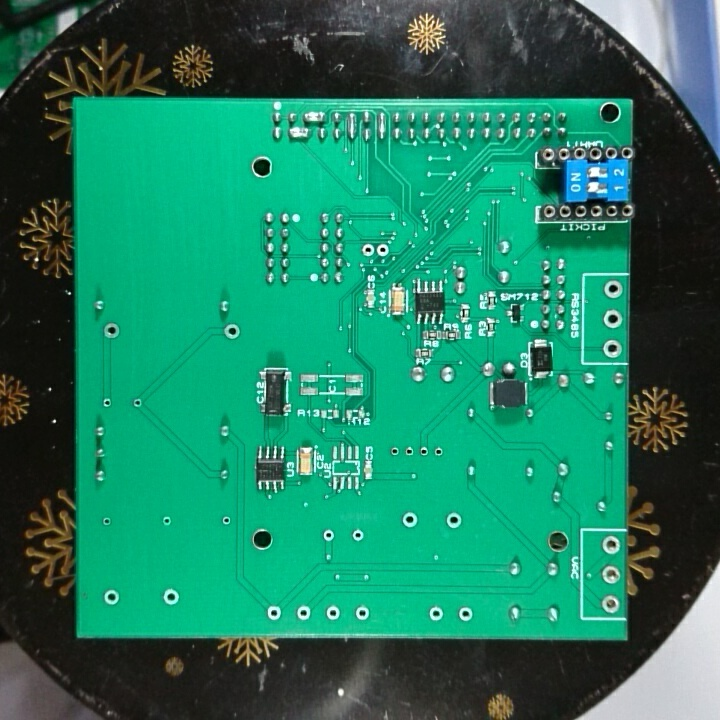F: (598, 533, 623, 558), (99, 318, 124, 343), (600, 307, 623, 332), (599, 337, 624, 360), (599, 562, 622, 587), (599, 591, 622, 615), (442, 508, 465, 532), (600, 278, 625, 300), (160, 586, 182, 609), (221, 321, 243, 343), (101, 587, 122, 609), (352, 602, 372, 624), (399, 508, 419, 530), (323, 603, 343, 623), (294, 603, 314, 623), (427, 604, 446, 625), (457, 604, 476, 624), (264, 603, 283, 623), (348, 526, 368, 545), (157, 512, 175, 530), (429, 442, 447, 460), (320, 527, 337, 546), (128, 395, 147, 412), (359, 240, 375, 260), (99, 512, 115, 532), (375, 239, 391, 258), (401, 443, 417, 461), (416, 442, 431, 461), (386, 443, 402, 460), (100, 394, 114, 412), (218, 514, 234, 529)
P: (285, 123, 311, 142), (300, 109, 328, 125), (376, 109, 389, 143), (345, 111, 359, 142)
